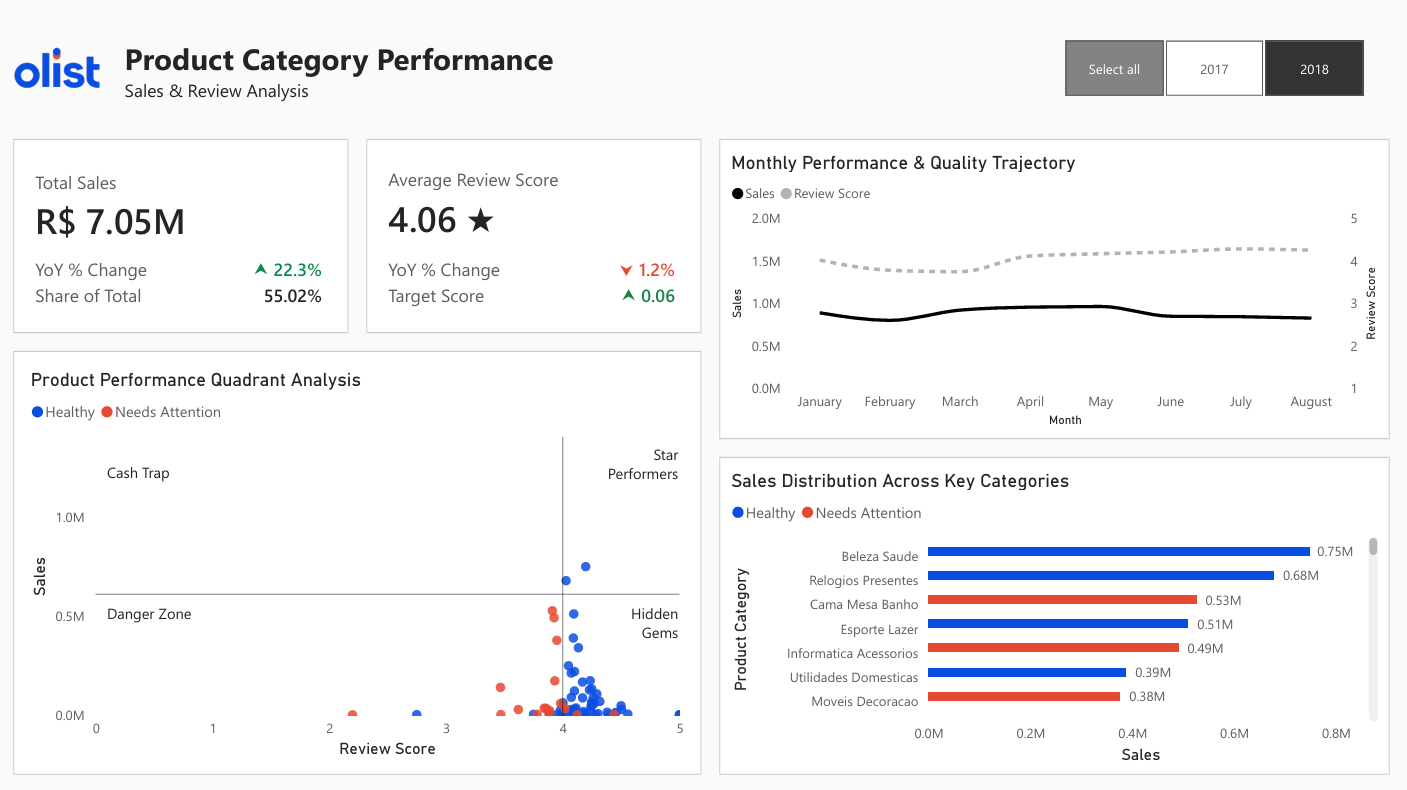

Layout of this report page (visuals, bound fields, positions):
{"tool":"powerbi","page":{"name":"Product Category Performance","canvas":[1280,720],"ordinal":0},"visuals":[{"type":"scatterChart","title":"Product Performance Quadrant Analysis","fields":{"X":["Avg(Category Performance.review_score)"],"Series":["Category Performance.Experience Flag Col"],"Category":["Category Performance.product_category"],"Y":["Sum(Category Performance.product_price)"]},"box":[16,320,624,384],"z":0},{"type":"clusteredBarChart","title":"Sales Distribution Across Key Categories","fields":{"Category":["Category Performance.product_category"],"Y":["Sum(Category Performance.product_price)"],"Series":["Category Performance.Experience Flag Col"]},"box":[656,416,608,288],"z":1000},{"type":"lineChart","title":"Monthly Performance & Quality Trajectory","fields":{"Y":["Sum(Category Performance.product_price)"],"Y2":["Avg(Category Performance.review_score)"],"Category":["Category Performance.purchase_date.Variation.Date Hierarchy.Month"]},"box":[656,128,608,272],"z":2000},{"type":"slicer","fields":{"Values":["Category Performance.Year"]},"box":[944,32,320,64],"z":3000},{"type":"cardVisual","fields":{"Data":["Sum(Category Performance.product_price)"]},"box":[16,128,304,176],"z":4000},{"type":"textbox","box":[544,400,80,48],"z":5000},{"type":"textbox","box":[96,416,80,48],"z":6000},{"type":"textbox","box":[96,544,96,48],"z":7000},{"type":"textbox","box":[560,544,64,48],"z":8000},{"type":"cardVisual","fields":{"Data":["Category Performance.Review Score with Star"]},"box":[336,128,304,176],"z":9000},{"type":"textbox","box":[112,32,848,80],"z":10000},{"type":"image","box":[16,16,80,96],"z":11000}]}

Visuals, with their boxes in screenshot pixels (x1, y1, x2, y2), scaled from the page's 1280x720 canvas onto the 1407x790 screenshot:
"Product Performance Quadrant Analysis" scatterChart: locate(18, 351, 704, 772)
"Sales Distribution Across Key Categories" clusteredBarChart: locate(721, 456, 1389, 772)
"Monthly Performance & Quality Trajectory" lineChart: locate(721, 140, 1389, 439)
slicer - Category Performance.Year: locate(1038, 35, 1389, 105)
cardVisual - Sum(Category Performance.product_price): locate(18, 140, 352, 334)
textbox: locate(598, 439, 686, 492)
textbox: locate(106, 456, 193, 509)
textbox: locate(106, 597, 211, 650)
textbox: locate(616, 597, 686, 650)
cardVisual - Category Performance.Review Score with Star: locate(369, 140, 704, 334)
textbox: locate(123, 35, 1055, 123)
image: locate(18, 18, 106, 123)
